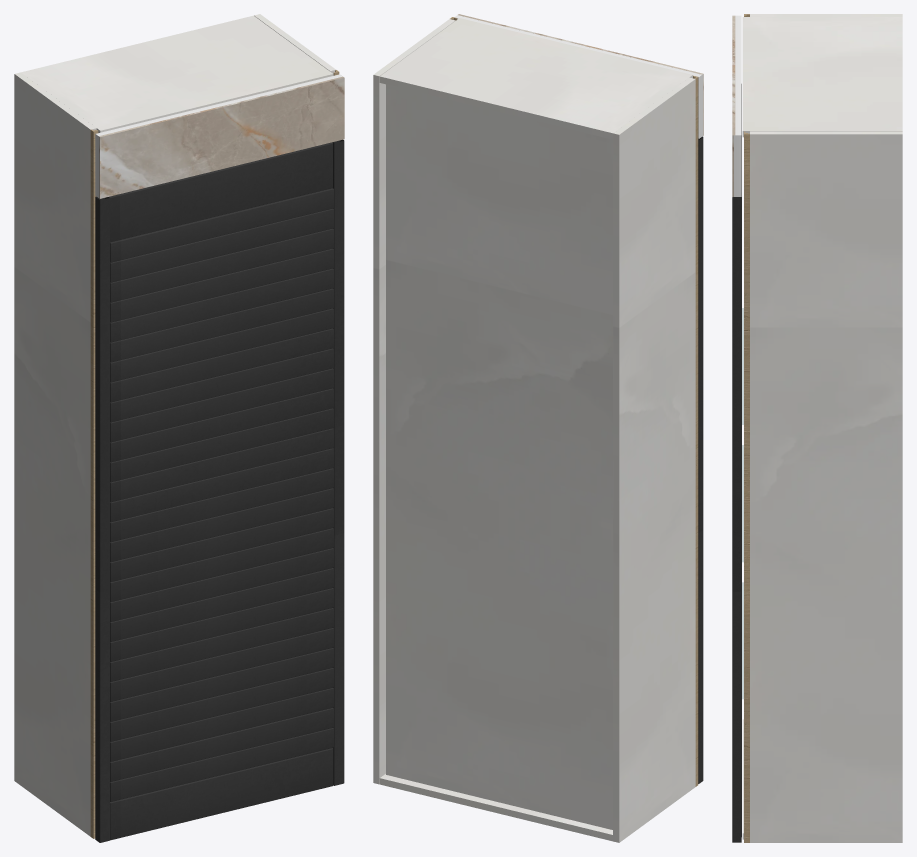
The model's file is MD-RS-NHX-ST-3SG-1SX-XXX-600-1650-336-15.glb.
3 views of the same model, side by side, from view 1: azimuth 30°, elevation 25°; view 2: azimuth 150°, elevation 25°; view 3: azimuth 270°, elevation 25° (orthographic).
Visible parts, largest first — view 1: TP_node_0, TP, TP_node_2, Object_node_34, Object_node_36, Object_node_37, Object_node_35, Object_node_50, Object_node_52, Object_node_33, Object_node_30, Object_node_31 (+25 smaller); view 2: TP_node_3, TP_node_0, TP, TP_node_1, Object_node_36, Object_node_10, TP_node, SILVER STONE FRAME PROFILE LITE BRONZE E-PAINT ESSEN_node_1; view 3: TP_node_1, TP, Object_node_35, Object_node_16, SILVER STONE FRAME PROFILE LITE BRONZE E-PAINT ESSEN_node_1, TP_node_2, SILVER STONE FRAME PROFILE LITE BRONZE E-PAINT ESSEN, TP_node_0.
Part boxes in pixels (bbox=[...]): TP_node_0: bbox=[14, 72, 96, 836]; TP: bbox=[21, 15, 333, 132]; TP_node_2: bbox=[99, 76, 344, 198]; Object_node_34: bbox=[105, 142, 332, 242]; Object_node_36: bbox=[95, 196, 109, 842]; Object_node_37: bbox=[110, 748, 333, 840]; Object_node_35: bbox=[332, 139, 344, 785]; Object_node_50: bbox=[110, 188, 333, 262]; Object_node_52: bbox=[110, 708, 333, 781]; Object_node_33: bbox=[110, 228, 333, 302]; Object_node_30: bbox=[110, 288, 333, 362]; Object_node_31: bbox=[110, 268, 333, 342]; TP_node_3: bbox=[386, 84, 612, 829]; TP_node_0: bbox=[613, 77, 695, 842]; TP: bbox=[379, 18, 692, 139]; TP_node_1: bbox=[373, 19, 455, 784]; Object_node_36: bbox=[698, 136, 703, 783]; Object_node_10: bbox=[693, 75, 698, 786]; TP_node: bbox=[379, 774, 612, 841]; SILVER STONE FRAME PROFILE LITE BRONZE E-PAINT ESSEN_node_1: bbox=[455, 15, 701, 77]; TP_node_1: bbox=[750, 131, 902, 842]; TP: bbox=[742, 17, 902, 137]; Object_node_35: bbox=[732, 197, 741, 842]; Object_node_16: bbox=[744, 131, 749, 842]; SILVER STONE FRAME PROFILE LITE BRONZE E-PAINT ESSEN_node_1: bbox=[735, 15, 741, 135]; TP_node_2: bbox=[732, 15, 735, 196]; SILVER STONE FRAME PROFILE LITE BRONZE E-PAINT ESSEN: bbox=[734, 135, 741, 196]; TP_node_0: bbox=[750, 14, 902, 16].
Size of what is drawn, in the model's own units: 0.6001 by 1.65 by 0.3593.
Materials: 7 (4 with a texture image).
